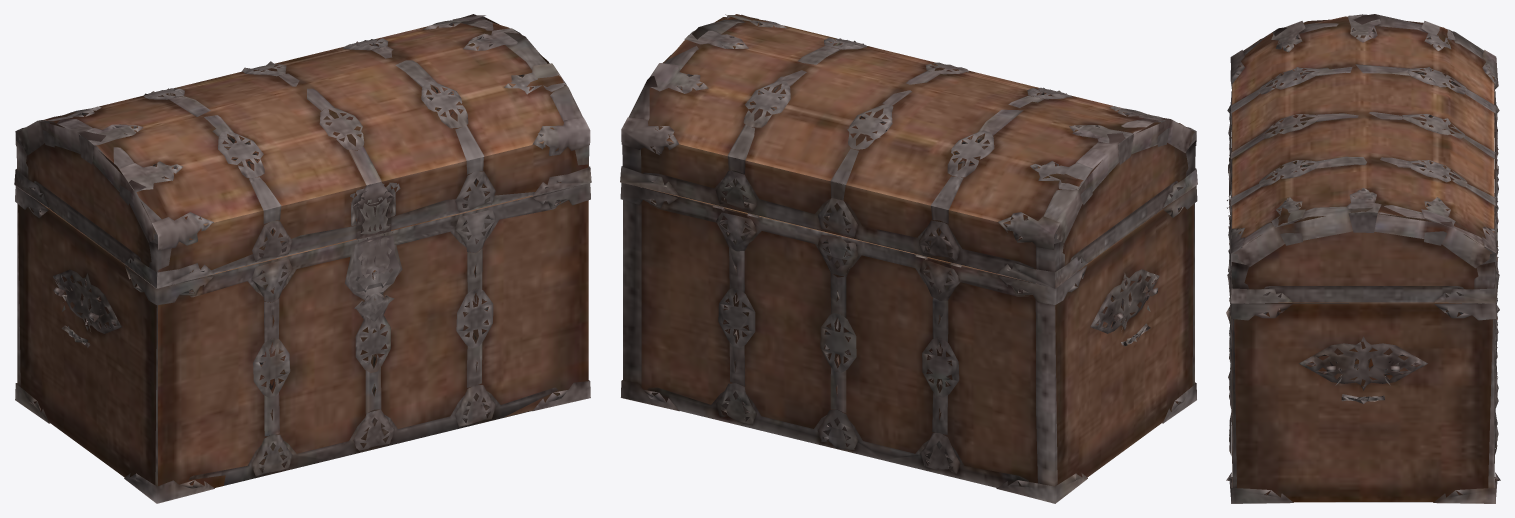
The model's file is iron_bound_chest.glb.
The picture shows the model from 3 angles, left to right: view 1: azimuth 30°, elevation 25°; view 2: azimuth 150°, elevation 25°; view 3: azimuth 270°, elevation 25°; orthographic projection. The views are drawn at different scales.
Parts seen in each view (by area): view 1: treasure_chest_bottom; view 2: treasure_chest_bottom; view 3: treasure_chest_bottom.
Part boxes in pixels (x1=…): treasure_chest_bottom: x1=14, y1=14, x2=591, y2=503; treasure_chest_bottom: x1=620, y1=14, x2=1197, y2=503; treasure_chest_bottom: x1=1226, y1=14, x2=1500, y2=503.
Bounding box in the file's own units: 0.9489 × 0.6241 × 0.5261.
1 material, 1 textured.
